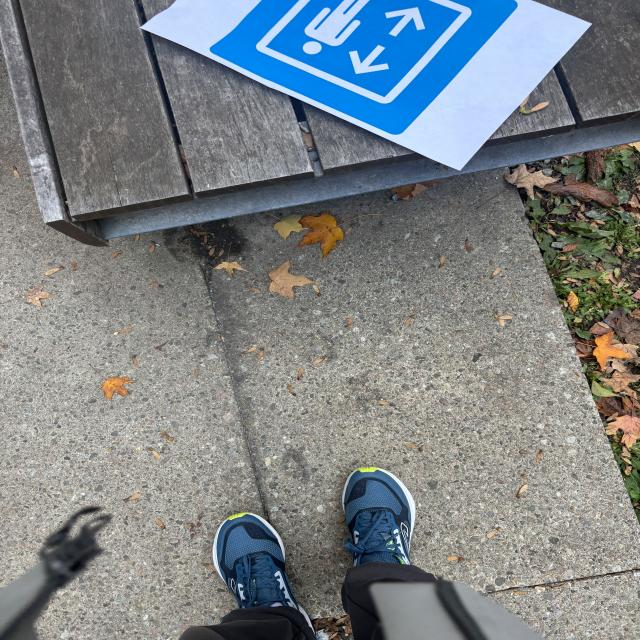elevator: (196, 1, 518, 142)
